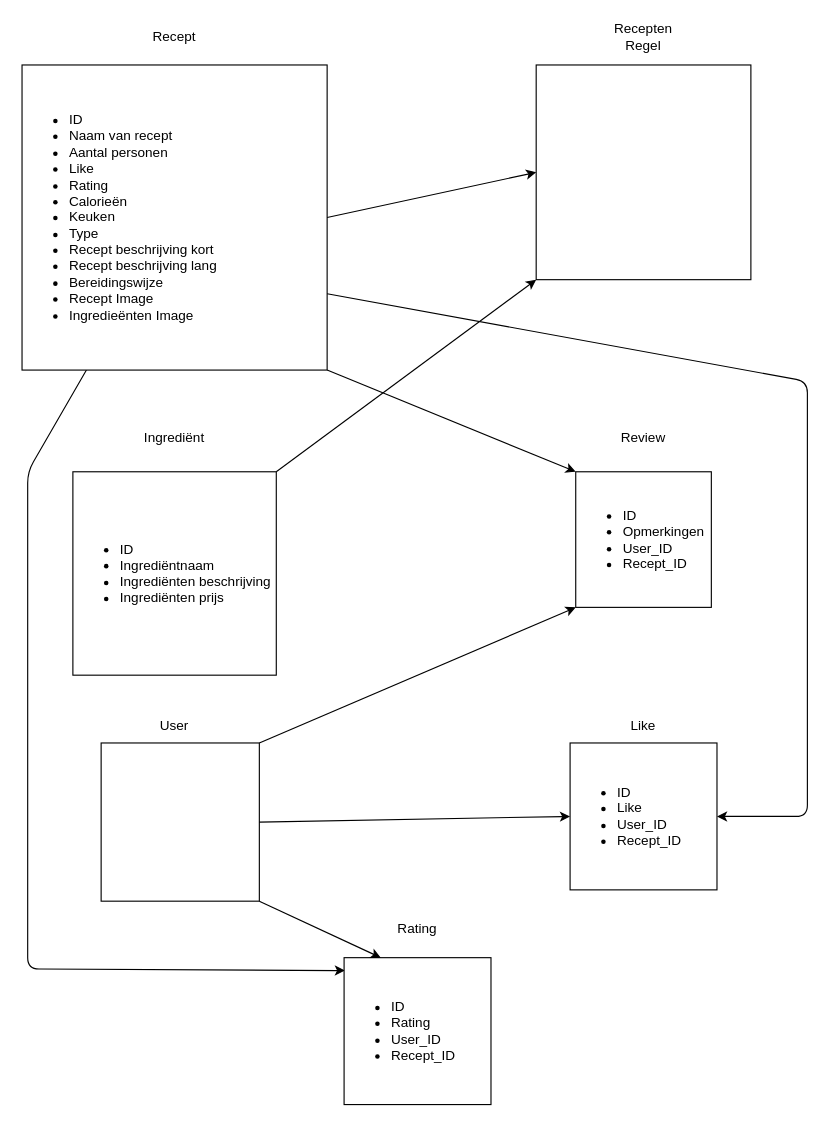
Some shapes in this 836 by 1124 pixel diagram are drawn without their labels. Each missing label, with the box of its shape:
ID Gebruikersnaam e-mail Wachtwoord User Image: (100, 742, 259, 901)
ID Recept_ID Ingrediënt_ID Ingrediënten hoeveelheid: (535, 64, 751, 280)
